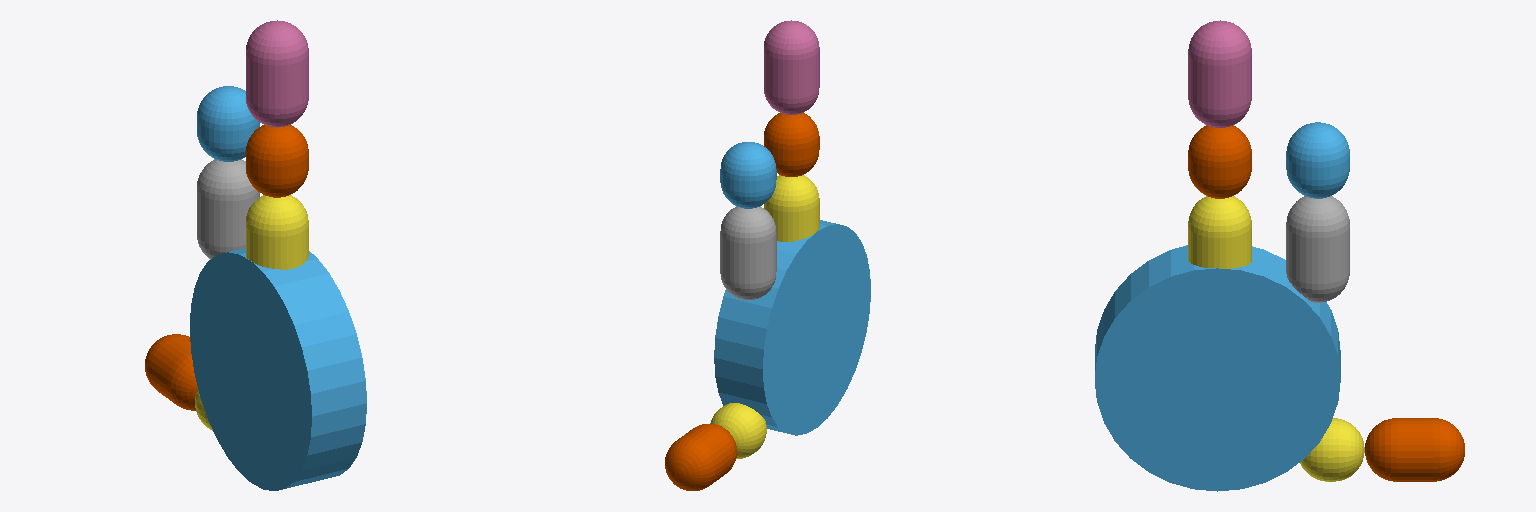
URDF robot description (DexterousHand):
<?xml version="1.0"?>
<robot name="DexterousHand">


    <link name="world"/>
    <joint name="world_to_palm" type="fixed">
        <parent link="world"/>
        <child link="palm"/>
        <origin xyz="0 0 0" rpy="0 0 0"/>
    </joint>
    <link name="palm">
        <inertial>
            <origin xyz="0 0 0.057" rpy="0 0 0"/>
            <mass value="0.30212892864"/>
            <inertia ixx="0.00049080844457568" ixy="0.0" ixz="0.0" iyy="0.00026746366246427523" iyz="0.0" izz="0.00026746366246427523"/>
        </inertial>
        <visual>
            <origin xyz="0 0 0.057" rpy="1.5708 0 1.5708"/>
            <geometry>
                <cylinder radius="0.057" length="0.0296"/>
            </geometry>
            <material name="default"/>
        </visual>
        <collision>
            <origin xyz="0 0 0.057" rpy="1.5708 0 1.5708"/>
            <geometry>
                <cylinder radius="0.057" length="0.0296"/>
            </geometry>
        </collision>
    </link>

    
    <joint name="thumb_joint1" type="revolute">
        <parent link="palm"/>
        <child link="thumb_base"/>
        <origin xyz="0.0029 0.0368 0.0157" rpy="-1.5708 -1.5708 0.0"/>
        <axis xyz="-1 0 0"/>
        <limit lower="-0.349" upper="2.094" effort="1.0" velocity="1.0"/>
    </joint>

    <link name="thumb_base"></link>

    <joint name="thumb_joint2" type="revolute">
        <parent link="thumb_base"/>
        <child link="thumb_proximal"/>
        <origin xyz="0.0 0.0 0.0" rpy="0.0 0.0 0.0"/>
        <axis xyz="0 0 1"/>
        <limit lower="-0.47" upper="2.443" effort="1.0" velocity="1.0"/>
    </joint>

    <link name="thumb_proximal">
        <inertial>
            <origin xyz="0 0 0.01565" rpy="0 0 0"/>
            <mass value="0.021538658803200002"/>
            <inertia ixx="2.9378910096388167e-06" ixy="0.0" ixz="0.0" 
            iyy="2.9378910096388167e-06" iyz="0.0" izz="2.358913912126464e-06"/>
        </inertial>
        <visual>
            <origin xyz="0 0 0.01565" rpy="0 0 0"/>
            <geometry>
                <cylinder radius="0.0148" length="0.0017000000000000001"/>
            </geometry>
            <material name="default"/>
        </visual>
        <visual>
            <origin xyz="0 0 0.0148" rpy="0 0 0"/>
            <geometry>
                <sphere radius="0.0148"/>
            </geometry>
            <material name="default"/>
        </visual>
        <visual>
            <origin xyz="0 0 0.0165" rpy="0 0 0"/>
            <geometry>
                <sphere radius="0.0148"/>
            </geometry>
            <material name="default"/>
        </visual>
        <collision>
            <origin xyz="0 0 0.01565" rpy="0 0 0"/>
            <geometry>
                <cylinder radius="0.0148" length="0.0017000000000000001"/>
            </geometry>
        </collision>
        <collision>
            <origin xyz="0 0 0.0148" rpy="0 0 0"/>
            <geometry>
                <sphere radius="0.0148"/>
            </geometry>
        </collision>
        <collision>
            <origin xyz="0 0 0.0165" rpy="0 0 0"/>
            <geometry>
                <sphere radius="0.0148"/>
            </geometry>
        </collision>
    </link>

    <joint name="thumb_joint3" type="revolute">
        <parent link="thumb_proximal"/>
        <child link="thumb_knuckle"/>
        <origin xyz="0.0 0.0 0.0313" rpy="0.0 0.0 0.0"/>
        <axis xyz="1 0 0"/>
        <limit lower="0.0" upper="0.0" effort="1.0" velocity="1.0"/>
    </joint>

    <link name="thumb_knuckle"></link>

    <joint name="thumb_joint4" type="revolute">
        <parent link="thumb_knuckle"/>
        <child link="thumb_middle"/>
        <origin xyz="0 0 0" rpy="0 0 0"/> 
        <axis xyz="0 1 0"/>
        <limit lower="-1.2" upper="1.9" effort="1.0" velocity="1.0"/>
    </joint>

    <link name="thumb_middle">
        <inertial>
            <origin xyz="0 0 0.0233" rpy="0 0 0"/>
            <mass value="0.032067140582400004"/>
            <inertia ixx="7.5589732685519385e-06" ixy="0.0" ixz="0.0" 
            iyy="7.5589732685519385e-06" iyz="0.0" izz="3.5119932365844485e-06"/>
        </inertial>
        <visual>
            <origin xyz="0 0 0.0233" rpy="0 0 0"/>
            <geometry>
                <cylinder radius="0.0148" length="0.017"/>
            </geometry>
            <material name="default"/>
        </visual>
        <visual>
            <origin xyz="0 0 0.0148" rpy="0 0 0"/>
            <geometry>
                <sphere radius="0.0148"/>
            </geometry>
            <material name="default"/>
        </visual>
        <visual>
            <origin xyz="0 0 0.0318" rpy="0 0 0"/>
            <geometry>
                <sphere radius="0.0148"/>
            </geometry>
            <material name="default"/>
        </visual>
        <collision>
            <origin xyz="0 0 0.0233" rpy="0 0 0"/>
            <geometry>
                <cylinder radius="0.0148" length="0.017"/>
            </geometry>
        </collision>
        <collision>
            <origin xyz="0 0 0.0148" rpy="0 0 0"/>
            <geometry>
                <sphere radius="0.0148"/>
            </geometry>
        </collision>
        <collision>
            <origin xyz="0 0 0.0318" rpy="0 0 0"/>
            <geometry>
                <sphere radius="0.0148"/>
            </geometry>
        </collision>
    </link>

    <joint name="thumb_joint5" type="revolute">
        <parent link="thumb_middle"/>
        <child link="thumb_distal"/>
        <origin xyz="0 0 0.0466" rpy="0 0 0"/> 
        <axis xyz="0 1 0"/>
        <limit lower="0.0" upper="0.0" effort="1.0" velocity="1.0"/>
    </joint>

    <link name="thumb_distal">
    </link>

    
    <joint name="index_joint1" type="revolute">
        <parent link="palm"/>
        <child link="index_proximal"/>
        <origin xyz="0.0 0.0465 0.091" rpy="0.0 0.0 0.0"/>
        <axis xyz="0 1 0"/>
        <limit lower="-0.314" upper="2.23" effort="1.0" velocity="1.0"/>
    </joint>

    <link name="index_proximal">
        <inertial>
            <origin xyz="0 0 0.02655" rpy="0 0 0"/>
            <mass value="0.036540024998400006"/>
            <inertia ixx="1.058665009272394e-05" ixy="0.0" ixz="0.0" 
            iyy="1.058665009272394e-05" iyz="0.0" izz="4.001863537824769e-06"/>
        </inertial>
        <visual>
            <origin xyz="0 0 0.02655" rpy="0 0 0"/>
            <geometry>
                <cylinder radius="0.0148" length="0.0235"/>
            </geometry>
            <material name="default"/>
        </visual>
        <visual>
            <origin xyz="0 0 0.0148" rpy="0 0 0"/>
            <geometry>
                <sphere radius="0.0148"/>
            </geometry>
            <material name="default"/>
        </visual>
        <visual>
            <origin xyz="0 0 0.0383" rpy="0 0 0"/>
            <geometry>
                <sphere radius="0.0148"/>
            </geometry>
            <material name="default"/>
        </visual>
        <collision>
            <origin xyz="0 0 0.02655" rpy="0 0 0"/>
            <geometry>
                <cylinder radius="0.0148" length="0.0235"/>
            </geometry>
        </collision>
        <collision>
            <origin xyz="0 0 0.0148" rpy="0 0 0"/>
            <geometry>
                <sphere radius="0.0148"/>
            </geometry>
        </collision>
        <collision>
            <origin xyz="0 0 0.0383" rpy="0 0 0"/>
            <geometry>
                <sphere radius="0.0148"/>
            </geometry>
        </collision>
    </link>

    <joint name="index_joint2" type="revolute">
        <parent link="index_proximal"/>
        <child link="index_dummy"/>
        <origin xyz="0.0 0.0 0.038" rpy="0.0 0.0 0.0"/>
        <axis xyz="1 0 0"/>
        <limit lower="-1.047" upper="1.047" effort="1.0" velocity="1.0"/>
    </joint>

    <link name="index_dummy"></link>

    <joint name="index_joint3" type="revolute">
        <parent link="index_dummy"/>
        <child link="index_middle"/>
        <origin xyz="0 0 0.015100000000000002" rpy="0 0 0"/>
        <axis xyz="0 1 0"/>
        <limit lower="-0.506" upper="1.885" effort="1.0" velocity="1.0"/>
    </joint>

    <link name="index_middle">
        <inertial>
            <origin xyz="0 0 0.01805" rpy="0 0 0"/>
            <mass value="0.0248417119104"/>
            <inertia ixx="4.058162759109537e-06" ixy="0.0" ixz="0.0" 
            iyy="4.058162759109537e-06" iyz="0.0" izz="2.7206642884270085e-06"/>
        </inertial>
        <visual>
            <origin xyz="0 0 0.01805" rpy="0 0 0"/>
            <geometry>
                <cylinder radius="0.0148" length="0.006499999999999999"/>
            </geometry>
            <material name="default"/>
        </visual>
        <visual>
            <origin xyz="0 0 0.0148" rpy="0 0 0"/>
            <geometry>
                <sphere radius="0.0148"/>
            </geometry>
            <material name="default"/>
        </visual>
        <visual>
            <origin xyz="0 0 0.0213" rpy="0 0 0"/>
            <geometry>
                <sphere radius="0.0148"/>
            </geometry>
            <material name="default"/>
        </visual>
        <collision>
            <origin xyz="0 0 0.01805" rpy="0 0 0"/>
            <geometry>
                <cylinder radius="0.0148" length="0.006499999999999999"/>
            </geometry>
        </collision>
        <collision>
            <origin xyz="0 0 0.0148" rpy="0 0 0"/>
            <geometry>
                <sphere radius="0.0148"/>
            </geometry>
        </collision>
        <collision>
            <origin xyz="0 0 0.0213" rpy="0 0 0"/>
            <geometry>
                <sphere radius="0.0148"/>
            </geometry>
        </collision>
    </link>

    <joint name="index_joint4" type="revolute">
        <parent link="index_middle"/>
        <child link="index_distal"/>
        <origin xyz="0 0 0.0361" rpy="0 0 0"/> 
        <axis xyz="0 1 0"/>
        <limit lower="0.0" upper="0.0" effort="1.0" velocity="1.0"/>
    </joint>

    <link name="index_distal">
    </link>

    
    <joint name="middle_joint1" type="revolute">
        <parent link="palm"/>
        <child link="middle_proximal"/>
        <origin xyz="0.0 0.0011 0.091" rpy="0.0 0.0 0.0"/>
        <axis xyz="0 1 0"/>
        <limit lower="-0.314" upper="2.23" effort="1.0" velocity="1.0"/>
    </joint>

    <link name="middle_proximal">
        <inertial>
            <origin xyz="0 0 0.02655" rpy="0 0 0"/>
            <mass value="0.036540024998400006"/>
            <inertia ixx="1.058665009272394e-05" ixy="0.0" ixz="0.0" 
            iyy="1.058665009272394e-05" iyz="0.0" izz="4.001863537824769e-06"/>
        </inertial>
        <visual>
            <origin xyz="0 0 0.02655" rpy="0 0 0"/>
            <geometry>
                <cylinder radius="0.0148" length="0.0235"/>
            </geometry>
            <material name="default"/>
        </visual>
        <visual>
            <origin xyz="0 0 0.0148" rpy="0 0 0"/>
            <geometry>
                <sphere radius="0.0148"/>
            </geometry>
            <material name="default"/>
        </visual>
        <visual>
            <origin xyz="0 0 0.0383" rpy="0 0 0"/>
            <geometry>
                <sphere radius="0.0148"/>
            </geometry>
            <material name="default"/>
        </visual>
        <collision>
            <origin xyz="0 0 0.02655" rpy="0 0 0"/>
            <geometry>
                <cylinder radius="0.0148" length="0.0235"/>
            </geometry>
        </collision>
        <collision>
            <origin xyz="0 0 0.0148" rpy="0 0 0"/>
            <geometry>
                <sphere radius="0.0148"/>
            </geometry>
        </collision>
        <collision>
            <origin xyz="0 0 0.0383" rpy="0 0 0"/>
            <geometry>
                <sphere radius="0.0148"/>
            </geometry>
        </collision>
    </link>

    <joint name="middle_joint2" type="revolute">
        <parent link="middle_proximal"/>
        <child link="middle_dummy"/>
        <origin xyz="0.0 0.0 0.038" rpy="0.0 0.0 0.0"/>
        <axis xyz="1 0 0"/>
        <limit lower="-1.047" upper="1.047" effort="1.0" velocity="1.0"/>
    </joint>

    <link name="middle_dummy"></link>

    <joint name="middle_joint3" type="revolute">
        <parent link="middle_dummy"/>
        <child link="middle_middle"/>
        <origin xyz="0 0 0.015100000000000002" rpy="0 0 0"/>
        <axis xyz="0 1 0"/>
        <limit lower="-0.506" upper="1.885" effort="1.0" velocity="1.0"/>
    </joint>

    <link name="middle_middle">
        <inertial>
            <origin xyz="0 0 0.01805" rpy="0 0 0"/>
            <mass value="0.0248417119104"/>
            <inertia ixx="4.058162759109537e-06" ixy="0.0" ixz="0.0" 
            iyy="4.058162759109537e-06" iyz="0.0" izz="2.7206642884270085e-06"/>
        </inertial>
        <visual>
            <origin xyz="0 0 0.01805" rpy="0 0 0"/>
            <geometry>
                <cylinder radius="0.0148" length="0.006499999999999999"/>
            </geometry>
            <material name="default"/>
        </visual>
        <visual>
            <origin xyz="0 0 0.0148" rpy="0 0 0"/>
            <geometry>
                <sphere radius="0.0148"/>
            </geometry>
            <material name="default"/>
        </visual>
        <visual>
            <origin xyz="0 0 0.0213" rpy="0 0 0"/>
            <geometry>
                <sphere radius="0.0148"/>
            </geometry>
            <material name="default"/>
        </visual>
        <collision>
            <origin xyz="0 0 0.01805" rpy="0 0 0"/>
            <geometry>
                <cylinder radius="0.0148" length="0.006499999999999999"/>
            </geometry>
        </collision>
        <collision>
            <origin xyz="0 0 0.0148" rpy="0 0 0"/>
            <geometry>
                <sphere radius="0.0148"/>
            </geometry>
        </collision>
        <collision>
            <origin xyz="0 0 0.0213" rpy="0 0 0"/>
            <geometry>
                <sphere radius="0.0148"/>
            </geometry>
        </collision>
    </link>

    <joint name="middle_joint4" type="revolute">
        <parent link="middle_middle"/>
        <child link="middle_distal"/>
        <origin xyz="0 0 0.0361" rpy="0 0 0"/> 
        <axis xyz="0 1 0"/>
        <limit lower="-0.366" upper="2.042" effort="1.0" velocity="1.0"/>
    </joint>

    <link name="middle_distal">
        <inertial>
            <origin xyz="0 0 0.026" rpy="0 0 0"/>
            <mass value="0.035783075328"/>
            <inertia ixx="1.002260084553728e-05" ixy="0.0" ixz="0.0" 
            iyy="1.002260084553728e-05" iyz="0.0" izz="3.91896240992256e-06"/>
        </inertial>
        <visual>
            <origin xyz="0 0 0.026" rpy="0 0 0"/>
            <geometry>
                <cylinder radius="0.0148" length="0.022399999999999996"/>
            </geometry>
            <material name="default"/>
        </visual>
        <visual>
            <origin xyz="0 0 0.0148" rpy="0 0 0"/>
            <geometry>
                <sphere radius="0.0148"/>
            </geometry>
            <material name="default"/>
        </visual>
        <visual>
            <origin xyz="0 0 0.0372" rpy="0 0 0"/>
            <geometry>
                <sphere radius="0.0148"/>
            </geometry>
            <material name="default"/>
        </visual>
        <collision>
            <origin xyz="0 0 0.026" rpy="0 0 0"/>
            <geometry>
                <cylinder radius="0.0148" length="0.022399999999999996"/>
            </geometry>
        </collision>
        <collision>
            <origin xyz="0 0 0.0148" rpy="0 0 0"/>
            <geometry>
                <sphere radius="0.0148"/>
            </geometry>
        </collision>
        <collision>
            <origin xyz="0 0 0.0372" rpy="0 0 0"/>
            <geometry>
                <sphere radius="0.0148"/>
            </geometry>
        </collision>
    </link>

    
    <joint name="ring_joint1" type="revolute">
        <parent link="palm"/>
        <child link="ring_proximal"/>
        <origin xyz="0.0 0.0 0.0" rpy="0.0 0.0 0.0"/>
        <axis xyz="1 0 0"/>
        <limit lower="0.0" upper="0.0" effort="1.0" velocity="1.0"/>
    </joint>

    <link name="ring_proximal">
    </link>

    <joint name="ring_joint2" type="revolute">
        <parent link="ring_proximal"/>
        <child link="ring_dummy"/>
        <origin xyz="0.0 0.0 0.0" rpy="0.0 0.0 0.0"/>
        <axis xyz="0 1 0"/>
        <limit lower="0.0" upper="0.0" effort="1.0" velocity="1.0"/>
    </joint>

    <link name="ring_dummy"></link>

    <joint name="ring_joint3" type="revolute">
        <parent link="ring_dummy"/>
        <child link="ring_middle"/>
        <origin xyz="0 0 0" rpy="0 0 0"/>
        <axis xyz="0 1 0"/>
        <limit lower="0.0" upper="0.0" effort="1.0" velocity="1.0"/>
    </joint>

    <link name="ring_middle">
    </link>

    <joint name="ring_joint4" type="revolute">
        <parent link="ring_middle"/>
        <child link="ring_distal"/>
        <origin xyz="0 0 0" rpy="0 0 0"/> 
        <axis xyz="0 1 0"/>
        <limit lower="0.0" upper="0.0" effort="1.0" velocity="1.0"/>
    </joint>

    <link name="ring_distal">
    </link>

    
    <joint name="little_joint0" type="revolute">
        <parent link="palm"/>
        <child link="little_base"/>
        <origin xyz="0.0 0.0 0.0" rpy="0.0 0.0 0.0"/>
        <axis xyz="0 1 0"/>
        <limit lower="0.0" upper="0.0" effort="1.0" velocity="1.0"/>
    </joint>

    <link name="little_base"></link>

    <joint name="little_joint1" type="revolute">
        <parent link="little_base"/>
        <child link="little_proximal"/>
        <origin xyz="0.0 0.0 0.0" rpy="-0.0 -0.0 -0.0"/>
        <axis xyz="1 0 0"/>
        <limit lower="0.0" upper="0.0" effort="1.0" velocity="1.0"/>
    </joint>

    <link name="little_proximal">
    </link>

    <joint name="little_joint2" type="revolute">
        <parent link="little_proximal"/>
        <child link="little_dummy"/>
        <origin xyz="0.0 0.0 0.0" rpy="0.0 0.0 0.0"/>
        <axis xyz="0 1 0"/>
        <limit lower="0.0" upper="0.0" effort="1.0" velocity="1.0"/>
    </joint>

    <link name="little_dummy"></link>

    <joint name="little_joint3" type="revolute">
        <parent link="little_dummy"/>
        <child link="little_middle"/>
        <origin xyz="0 0 0" rpy="0 0 0"/>
        <axis xyz="0 1 0"/>
        <limit lower="0.0" upper="0.0" effort="1.0" velocity="1.0"/>
    </joint>

    <link name="little_middle">
    </link>

    <joint name="little_joint4" type="revolute">
        <parent link="little_middle"/>
        <child link="little_distal"/>
        <origin xyz="0 0 0" rpy="0 0 0"/>
        <axis xyz="0 1 0"/>
        <limit lower="0.0" upper="0.0" effort="1.0" velocity="1.0"/>
    </joint>

    <link name="little_distal">
    </link>

</robot>

--- Render facts (derived) ---
Views: 3 orthographic renders of the robot side by side, from view 1: azimuth 30°, elevation 25°; view 2: azimuth 150°, elevation 25°; view 3: azimuth 270°, elevation 25°.
Model DexterousHand with 24 links and 23 joints (22 revolute, 1 fixed), rooted at world, posed every joint at zero.
Visible links, largest first — view 1: palm, middle_distal, index_proximal, middle_proximal, middle_middle, index_middle, thumb_middle; view 2: palm, index_proximal, middle_distal, thumb_middle, index_middle, middle_proximal, middle_middle, thumb_proximal; view 3: palm, middle_distal, index_proximal, thumb_middle, middle_proximal, index_middle, middle_middle, thumb_proximal.
Boxes of the visible links, <box> form: palm: <box>190,248,366,490</box>; middle_distal: <box>246,20,308,127</box>; index_proximal: <box>197,159,259,259</box>; middle_proximal: <box>246,195,308,269</box>; middle_middle: <box>246,125,308,197</box>; index_middle: <box>197,86,259,161</box>; thumb_middle: <box>145,334,197,410</box>; palm: <box>714,220,870,435</box>; index_proximal: <box>720,206,776,299</box>; middle_distal: <box>764,20,819,114</box>; thumb_middle: <box>665,424,736,490</box>; index_middle: <box>720,142,776,208</box>; middle_proximal: <box>764,175,819,241</box>; middle_middle: <box>764,113,819,176</box>; thumb_proximal: <box>710,403,766,458</box>; palm: <box>1095,245,1340,491</box>; middle_distal: <box>1188,20,1251,127</box>; index_proximal: <box>1286,196,1349,302</box>; thumb_middle: <box>1365,418,1464,481</box>; middle_proximal: <box>1188,196,1251,268</box>; index_middle: <box>1286,122,1349,198</box>; middle_middle: <box>1188,125,1251,198</box>; thumb_proximal: <box>1300,418,1364,481</box>.
Bounding box of the posed robot: 0.0325 × 0.1717 × 0.2322 m (x, y, z).
Geometry: primitives only (box / cylinder / sphere), no mesh files.
